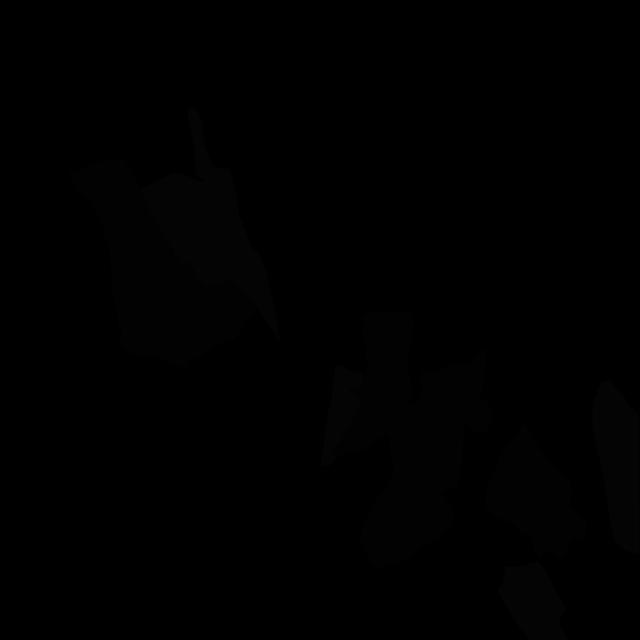cardboard: (332, 311, 494, 570), (69, 159, 257, 370), (485, 423, 587, 559)
soft_plastic: (140, 106, 280, 343), (592, 380, 640, 555), (497, 561, 574, 640), (321, 365, 364, 467)
